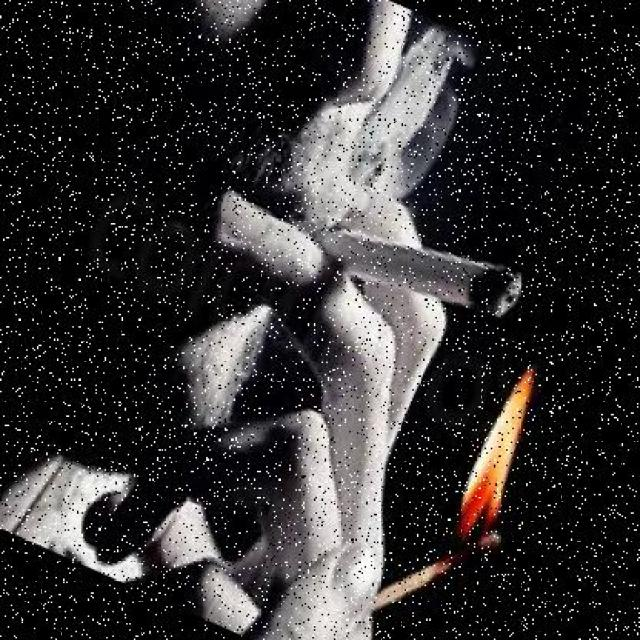fire: (431, 342, 571, 548)
